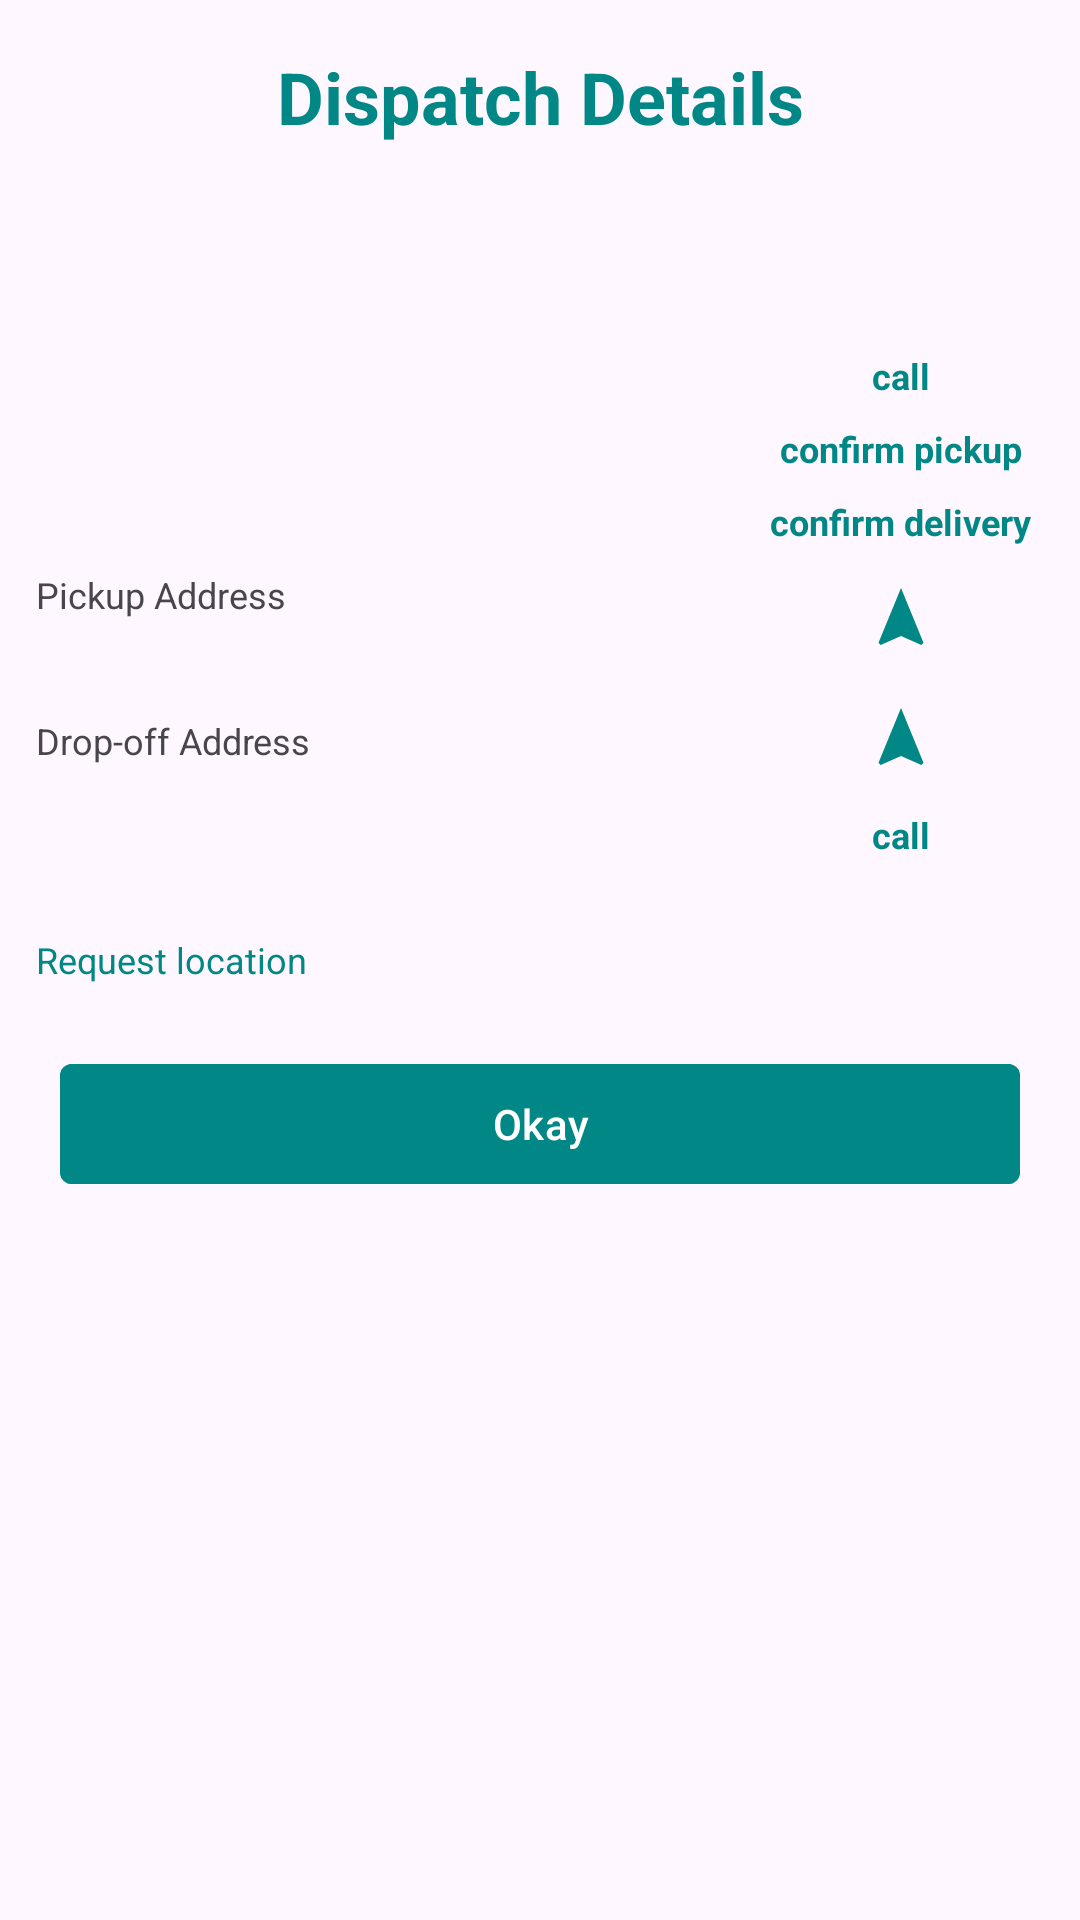

Point at icon controls on the screen. Image size 1080 x 1920, points as (x,y).
navigate to drop off address: (901,736)
navigate to pickup address: (901,616)
